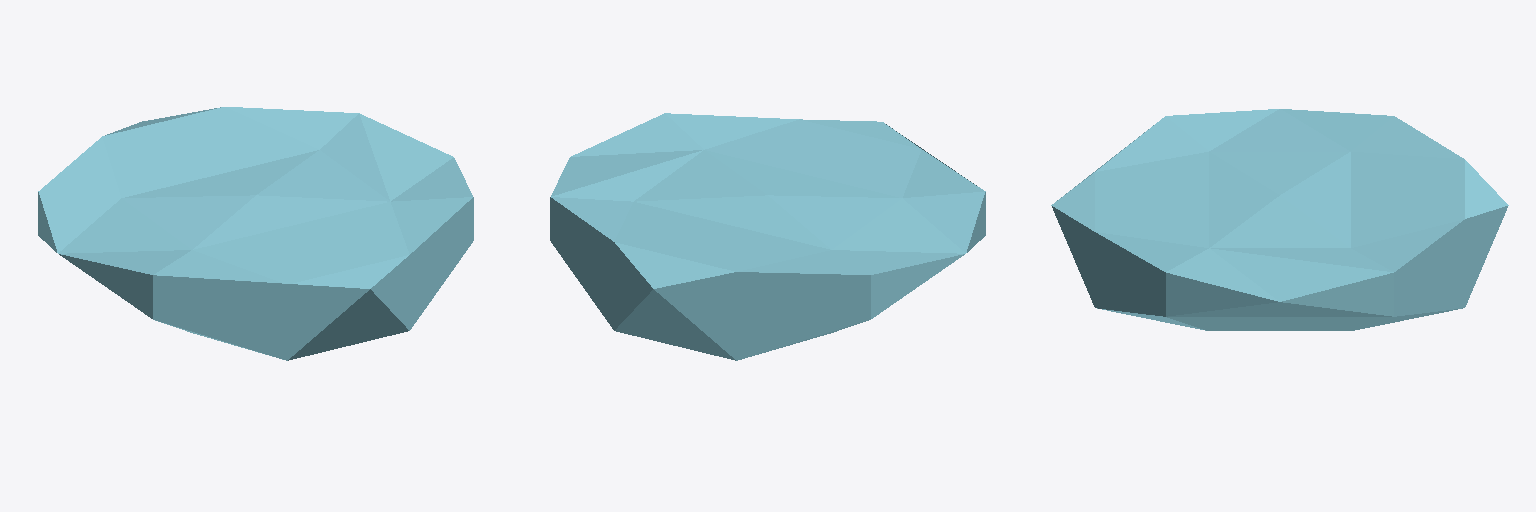
The model's file is plataforma4.obj.
The picture shows the model from 3 angles: view 1: azimuth 30°, elevation 25°; view 2: azimuth 150°, elevation 25°; view 3: azimuth 270°, elevation 25°; orthographic projection.
Visible parts, largest first — view 1: Hedra002; view 2: Hedra002; view 3: Hedra002.
Boxes of the visible parts, x1=… form: Hedra002: x1=38, y1=107, x2=473, y2=360; Hedra002: x1=550, y1=113, x2=985, y2=360; Hedra002: x1=1051, y1=109, x2=1508, y2=330.
Bounding box in the file's own units: 83.22 × 26.77 × 83.22.